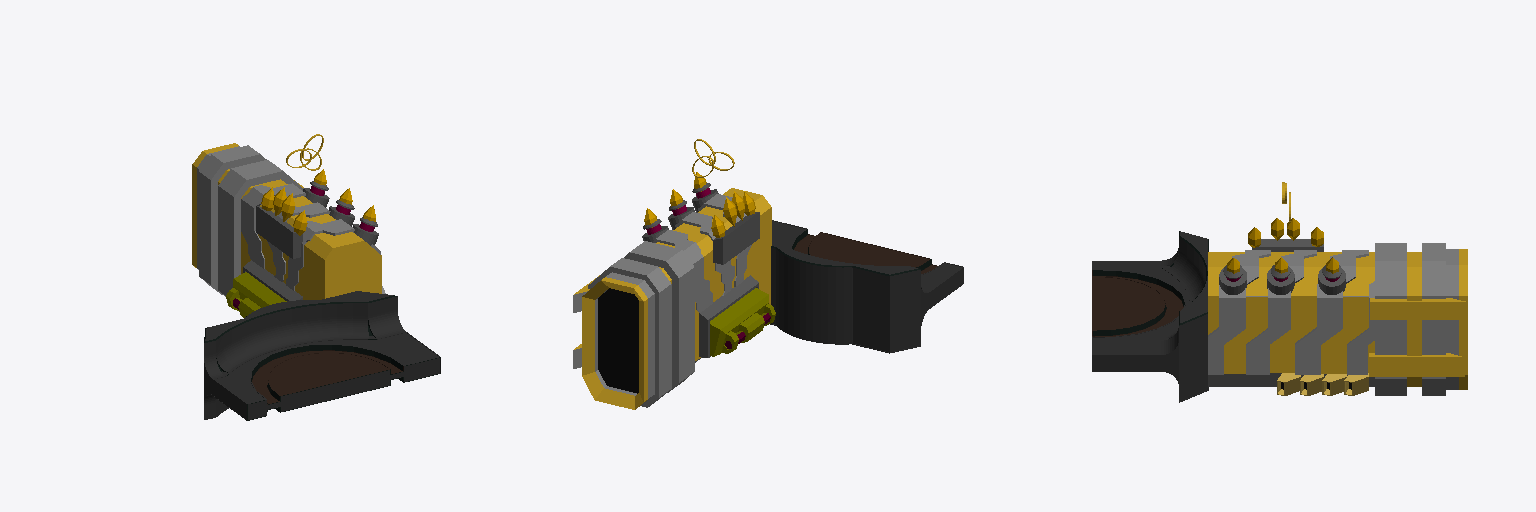
File: magic_plasma_pistol.obj
3 views of the same model, side by side, from view 1: azimuth 30°, elevation 25°; view 2: azimuth 150°, elevation 25°; view 3: azimuth 270°, elevation 25° (orthographic).
Parts seen in each view (by area): view 1: Mesh01, gunBody1, Group8, Group13, Group10; view 2: gunBody1, Mesh01, Group8, Group13, Group10; view 3: gunBody1, Mesh01, Group13, Group6, Group4, Group12.
Part boxes in pixels (x1,y1,x2,y2): Mesh01: (204, 291, 440, 420); gunBody1: (192, 143, 385, 299); Group8: (226, 272, 286, 317); Group13: (256, 206, 302, 258); Group10: (243, 260, 302, 300); gunBody1: (573, 188, 771, 409); Mesh01: (770, 220, 963, 353); Group8: (710, 288, 775, 356); Group13: (713, 212, 759, 264); Group10: (699, 275, 758, 357); gunBody1: (1208, 243, 1467, 395); Mesh01: (1092, 231, 1208, 402); Group13: (1252, 239, 1323, 251); Group6: (1267, 265, 1294, 294); Group4: (1318, 265, 1345, 294); Group12: (1219, 265, 1246, 294).
Size of the model in its own units: 1.03 by 0.9901 by 1.63.